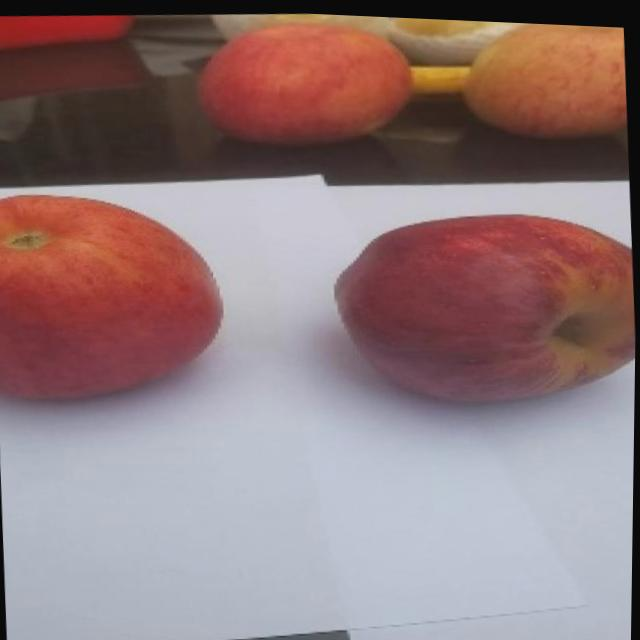Apple: (327, 197, 638, 413), (0, 184, 231, 414), (190, 9, 416, 152)
